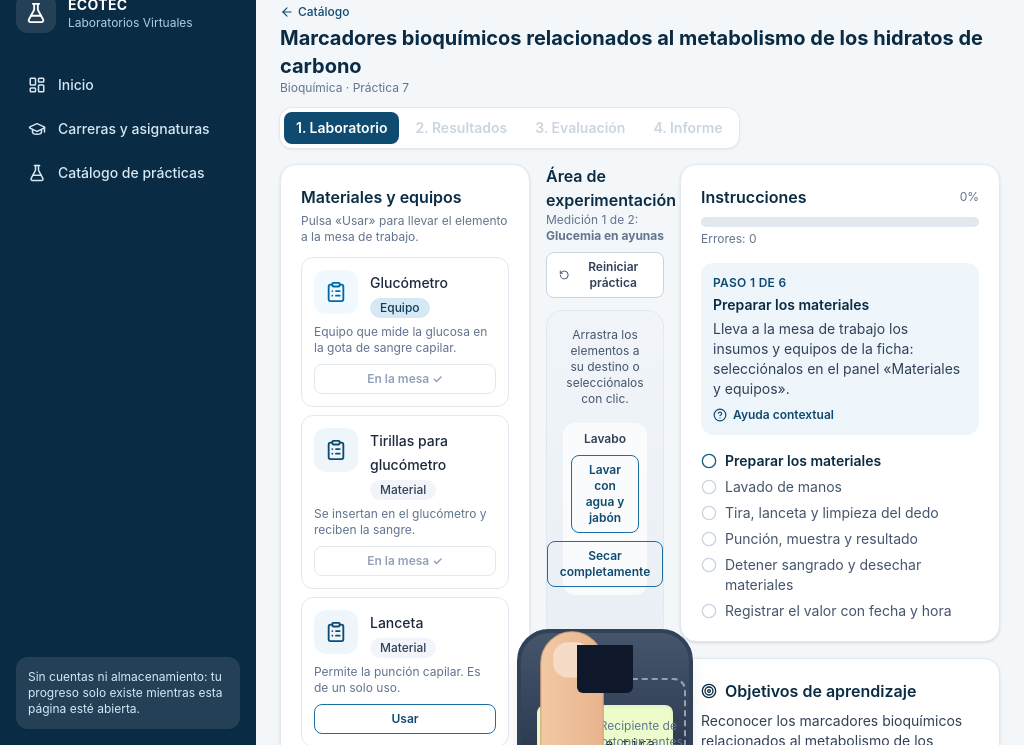
Scenario: práctica completa de Bioquímica (clic en lugar de arrastrar) › reiniciar la práctica vuelve al paso 1
Earlier steps of the test are not shown.
Click the button "Usar".
click(405, 719)  # box x1=314 y1=704 x2=496 y2=734
(page scrolled)
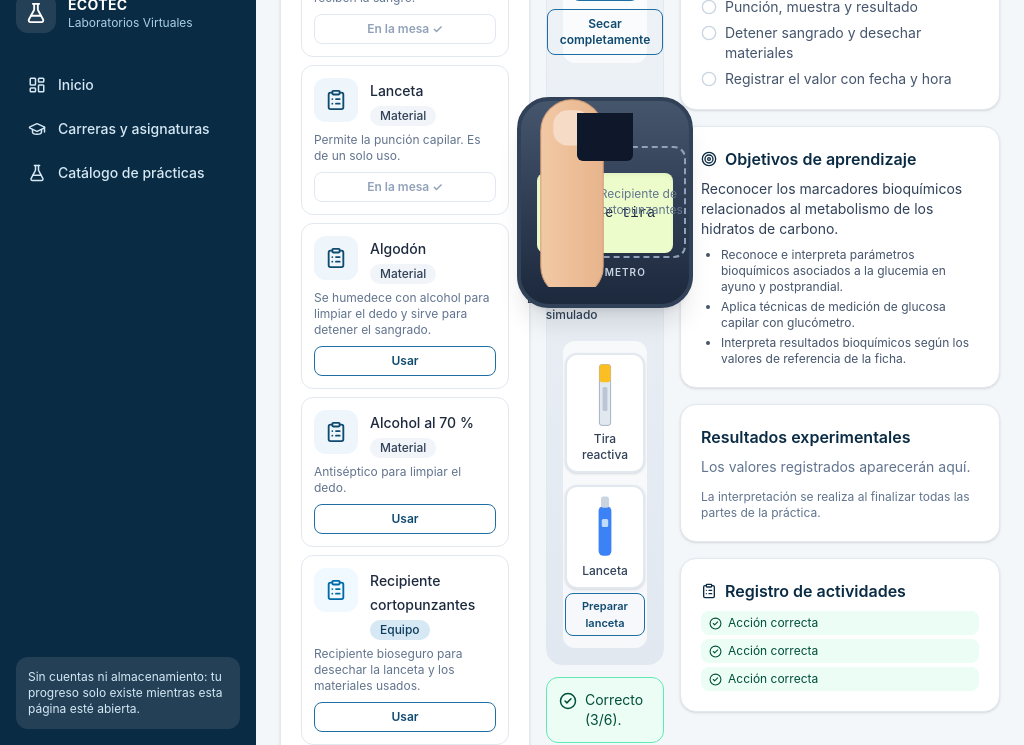
Click the button "Usar" below "Algodón".
click(405, 361)  # box x1=314 y1=346 x2=496 y2=376
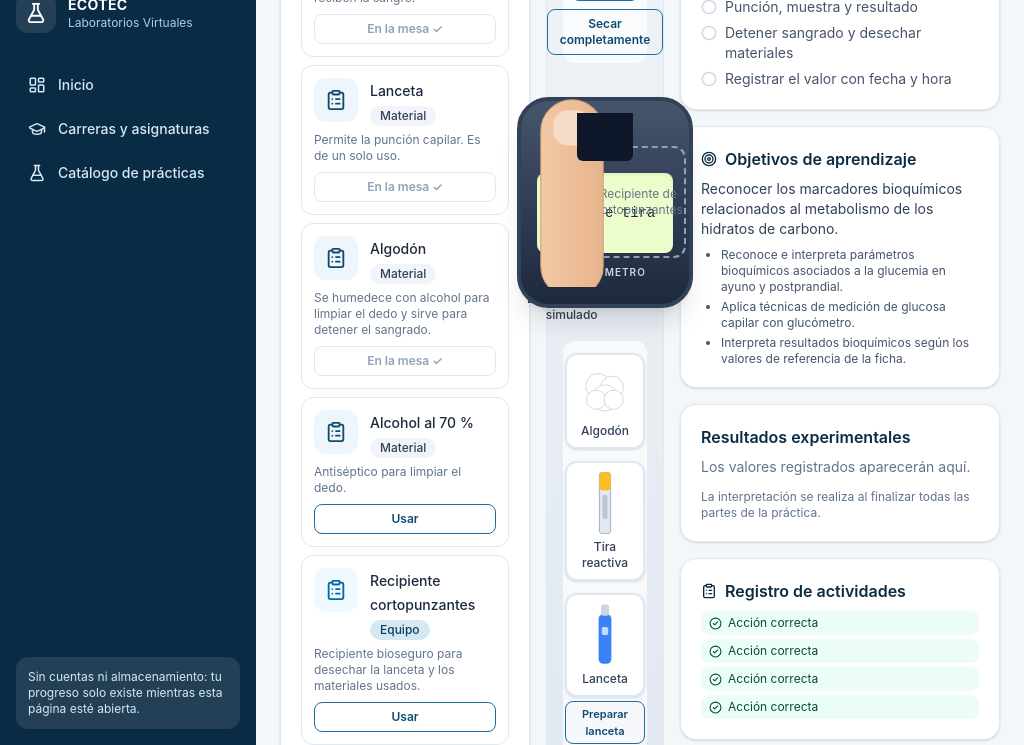
Click the button "Usar" below "Alcohol al 70 %".
click(405, 519)  # box x1=314 y1=504 x2=496 y2=534
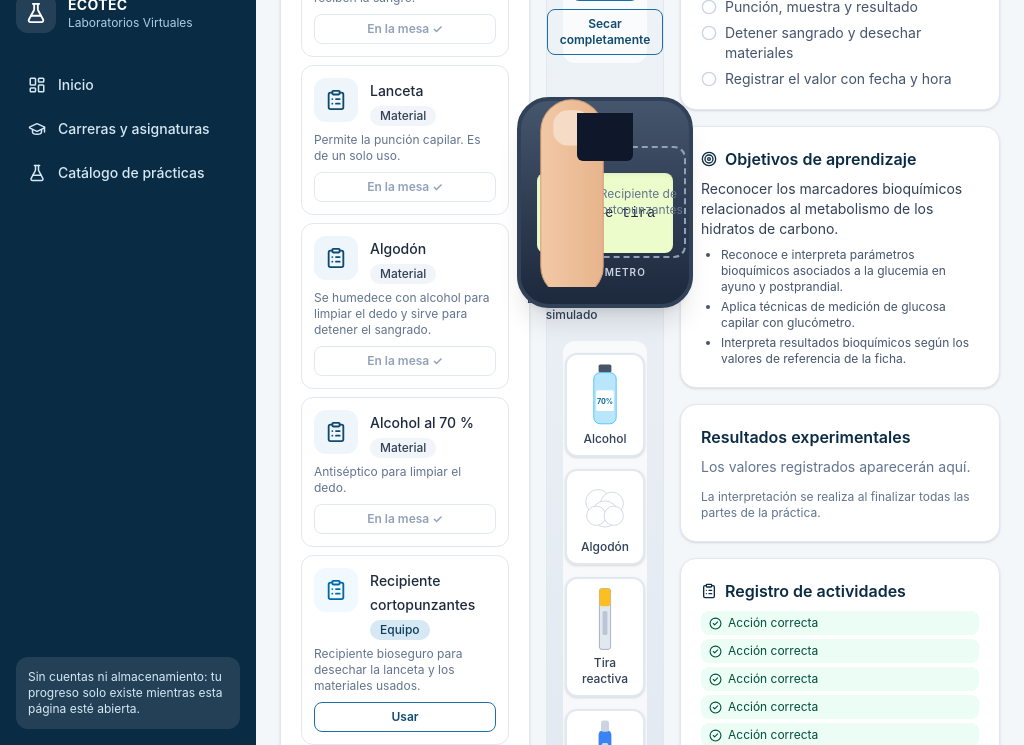
Click the button "Usar".
click(405, 717)  # box x1=314 y1=702 x2=496 y2=732
(page scrolled)
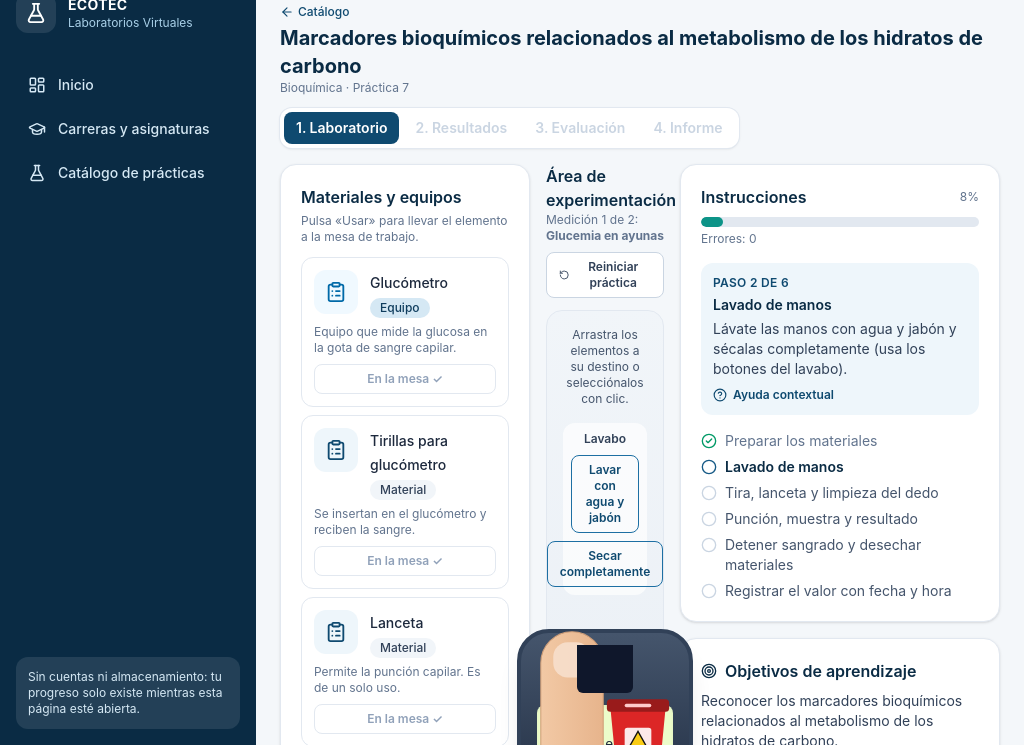
Now the text "Paso 2 de 6" is shown, box x1=713 y1=275 x2=789 y2=290
Click the button "Reiniciar práctica".
click(605, 275)  # box x1=546 y1=252 x2=664 y2=298
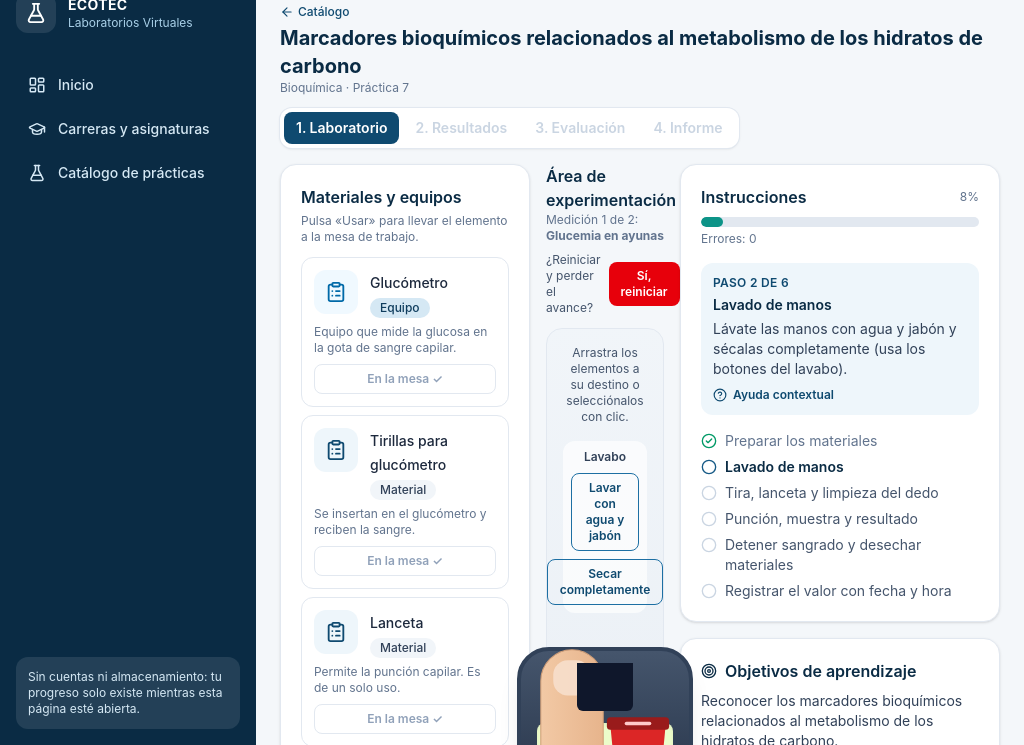
Click the button "Sí, reiniciar".
click(644, 284)  # box x1=609 y1=262 x2=680 y2=306
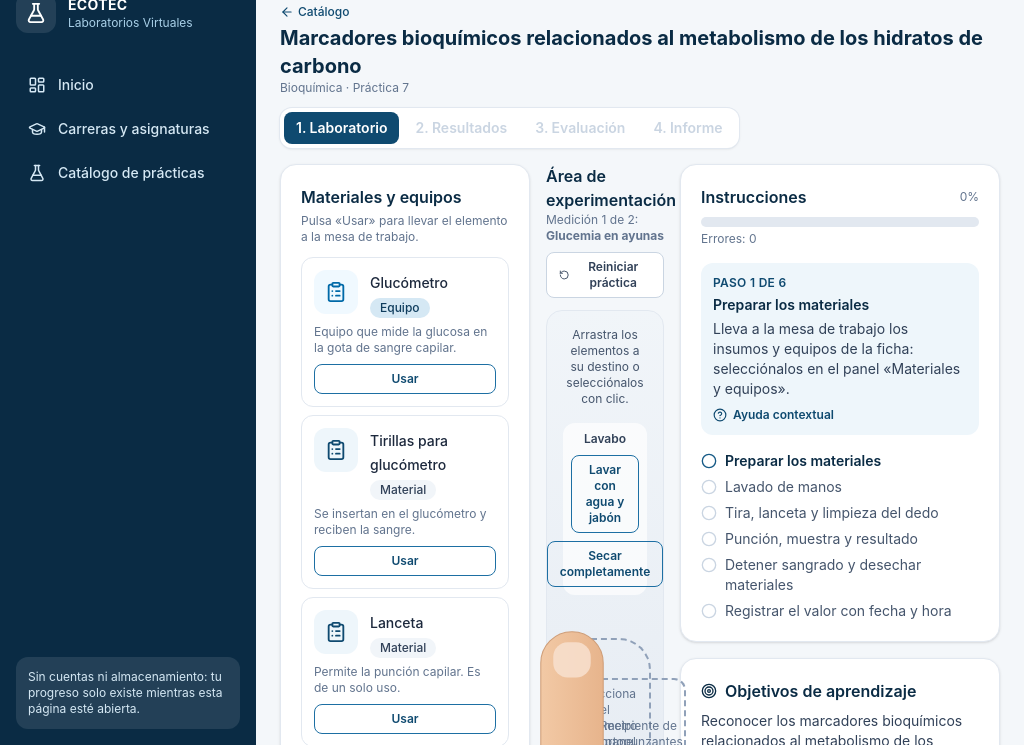
Now the text "Paso 1 de 6" is shown, box x1=713 y1=275 x2=786 y2=290
